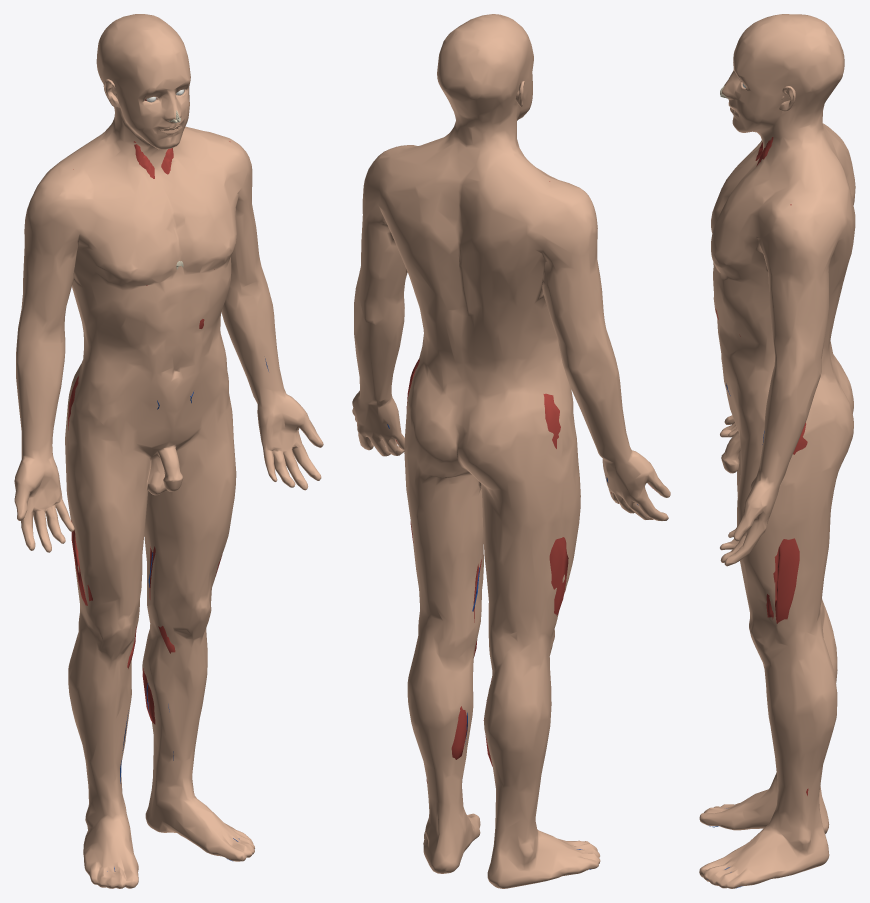
File: body.glb
The picture shows the model from 3 angles, left to right: view 1: azimuth 30°, elevation 25°; view 2: azimuth 150°, elevation 25°; view 3: azimuth 270°, elevation 25°; orthographic projection. The views are drawn at different scales.
Parts seen in each view (by area): view 1: sys_skin, sys_muscles; view 2: sys_skin, sys_muscles; view 3: sys_skin, sys_muscles.
Part boxes in pixels (left/top/right/bottom): sys_skin: left=14, top=14, right=323, bottom=888; sys_muscles: left=68, top=98, right=230, bottom=724; sys_skin: left=352, top=14, right=670, bottom=888; sys_muscles: left=396, top=146, right=611, bottom=783; sys_skin: left=699, top=14, right=855, bottom=888; sys_muscles: left=715, top=137, right=808, bottom=795.
Size of the model in its own units: 0.6665 by 1.72 by 0.292.
